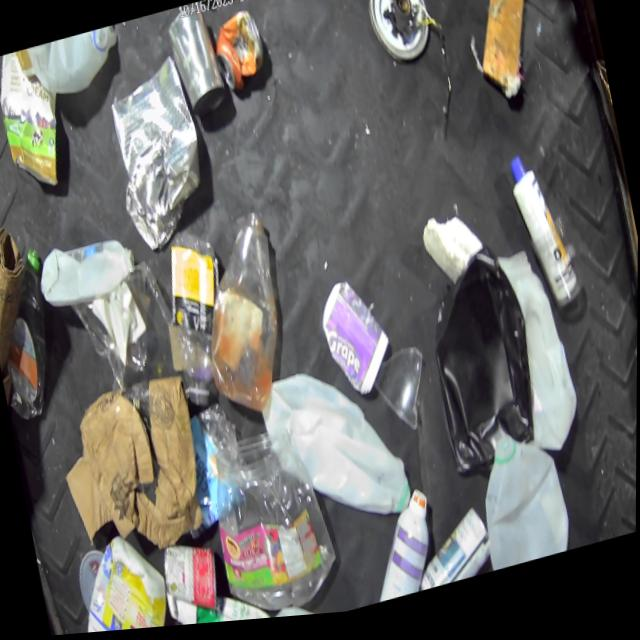can: (99, 54, 217, 259), (403, 509, 498, 600), (164, 2, 228, 124), (159, 536, 226, 625), (209, 8, 271, 100)
milk_jug: (256, 354, 416, 550), (493, 238, 588, 468), (469, 430, 577, 581), (34, 230, 141, 314), (27, 26, 125, 105)
non_white_jug: (417, 246, 552, 488), (72, 525, 182, 635), (0, 44, 70, 198), (165, 569, 275, 629)
plastic_bottle: (184, 209, 302, 430), (157, 225, 245, 412), (0, 245, 71, 425)
